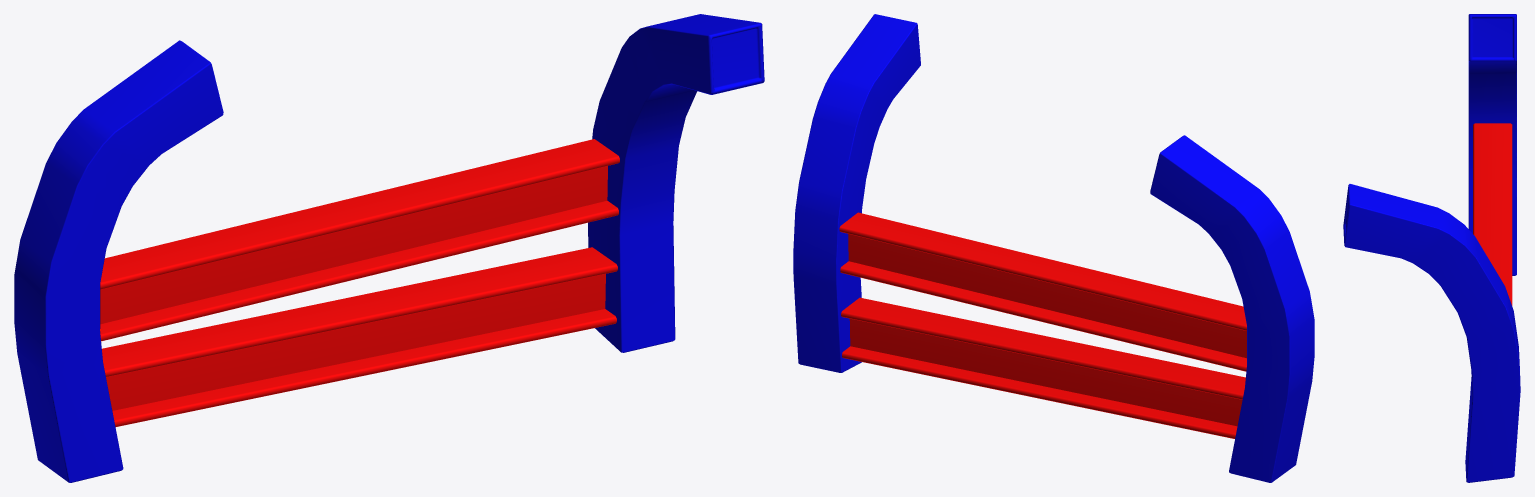
The model's file is spaceDebri_03.obj.
3 renders of one model, left to right at view 1: azimuth 30°, elevation 25°; view 2: azimuth 150°, elevation 25°; view 3: azimuth 270°, elevation 25°, orthographic. The views are drawn at different scales.
Visible parts, largest first — view 1: spaceDebri_03 debri_grp; view 2: spaceDebri_03 debri_grp; view 3: spaceDebri_03 debri_grp.
Part boxes in pixels (x1,y1,x2,y2): spaceDebri_03 debri_grp: (14, 14, 764, 482); spaceDebri_03 debri_grp: (793, 14, 1314, 482); spaceDebri_03 debri_grp: (1343, 14, 1520, 482).
Bounding box in the file's own units: 1157 × 675 × 366.
